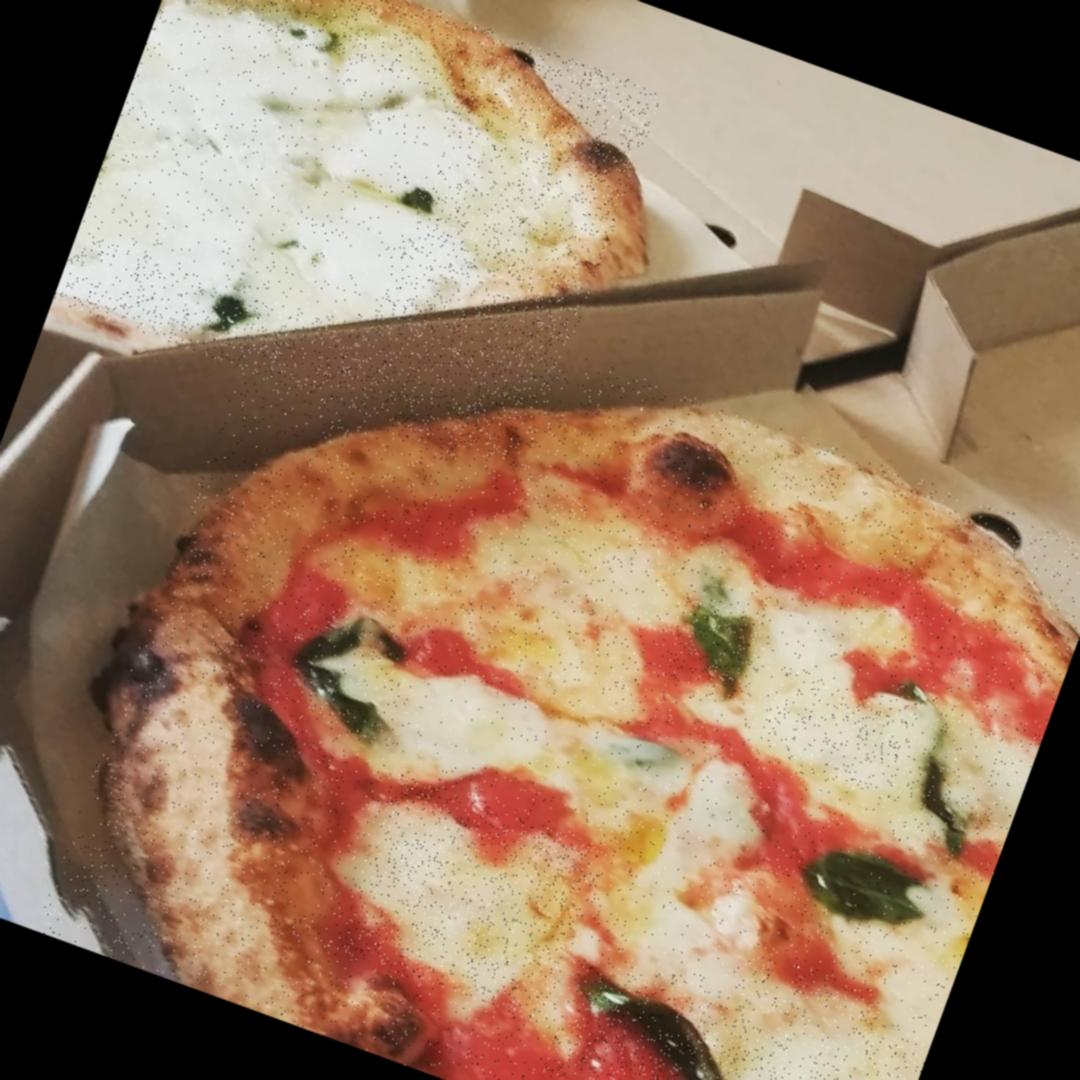Basil: (536, 962, 791, 1080), (270, 598, 411, 743), (801, 824, 955, 945), (893, 704, 1014, 856), (650, 580, 770, 702)
Cheese: (82, 0, 454, 337), (337, 775, 610, 1026), (457, 494, 700, 724), (623, 763, 803, 997), (641, 941, 935, 1080), (423, 679, 647, 812), (752, 667, 920, 803)
Pizza: (35, 248, 1080, 1080), (52, 0, 663, 474)
